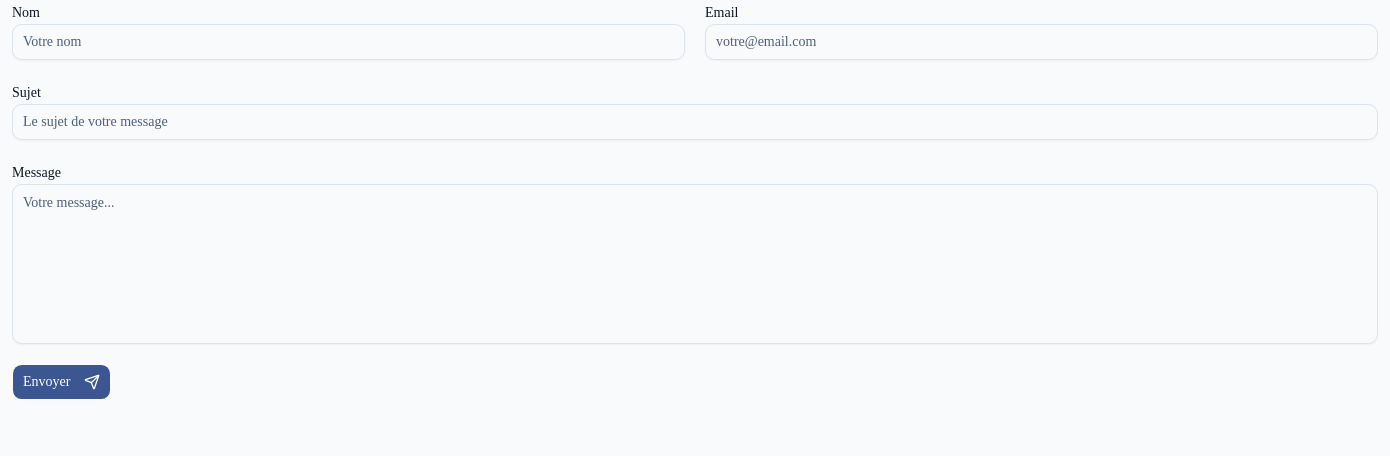
Test: ContactForm › affiche le message de succès après envoi réussi
Step 1. Type "Jean Dupont" into the field labelled "Nom" → (348, 42), box [12,24,685,60]
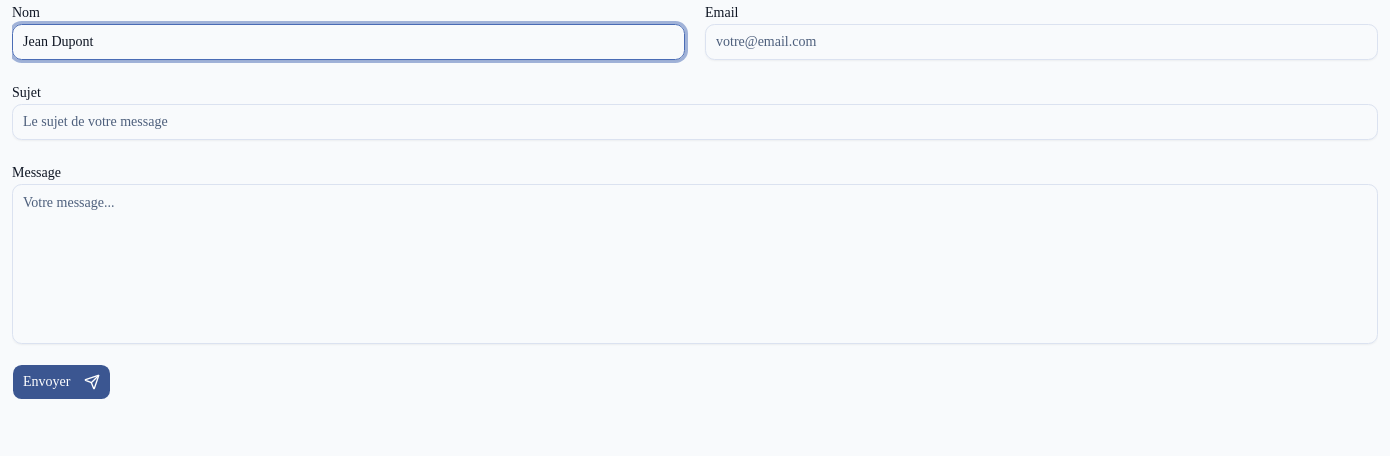
Step 2. Type "jean@example.com" into the field labelled "Email" → (1042, 42), box [705,24,1378,60]
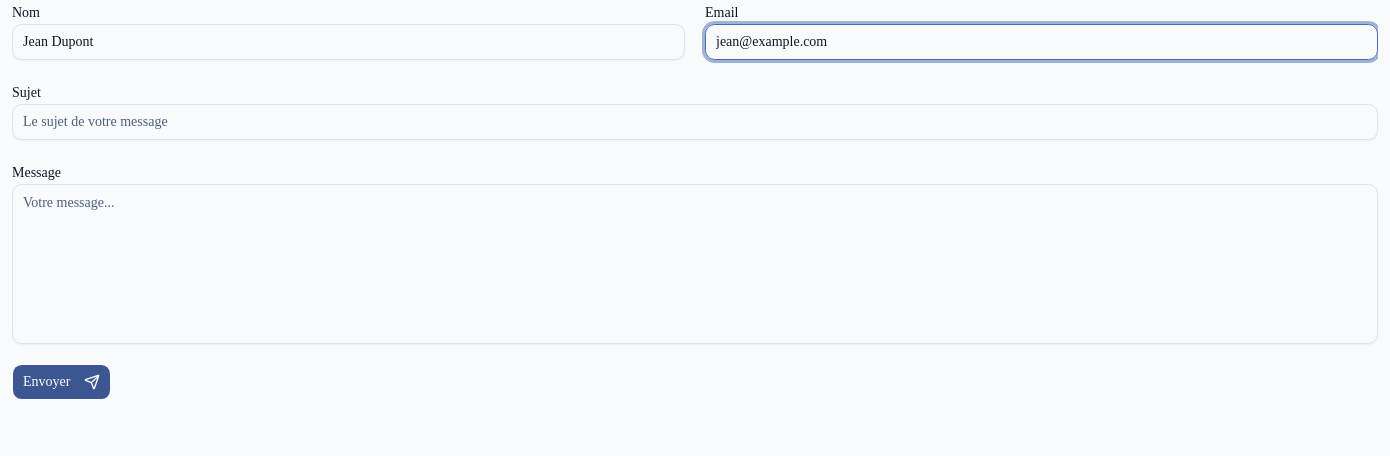
Step 3. Type "Projet" into the field labelled "Sujet" → (695, 122), box [12,104,1378,140]
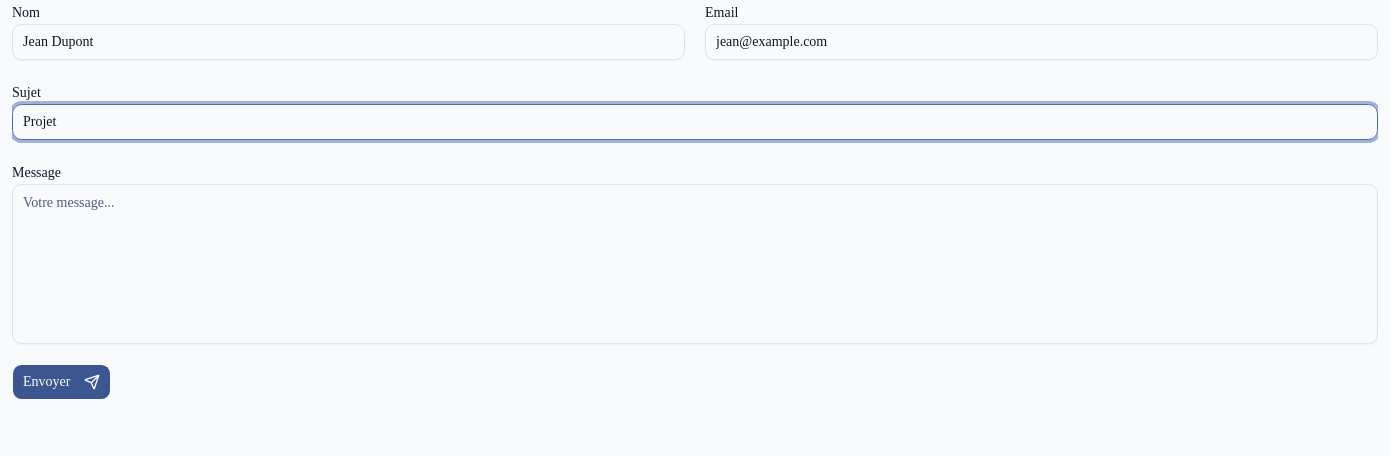
Step 4. Type "Bonjour, je vous contacte pour..." into the text box labelled "Message" → (695, 264), box [12,184,1378,344]
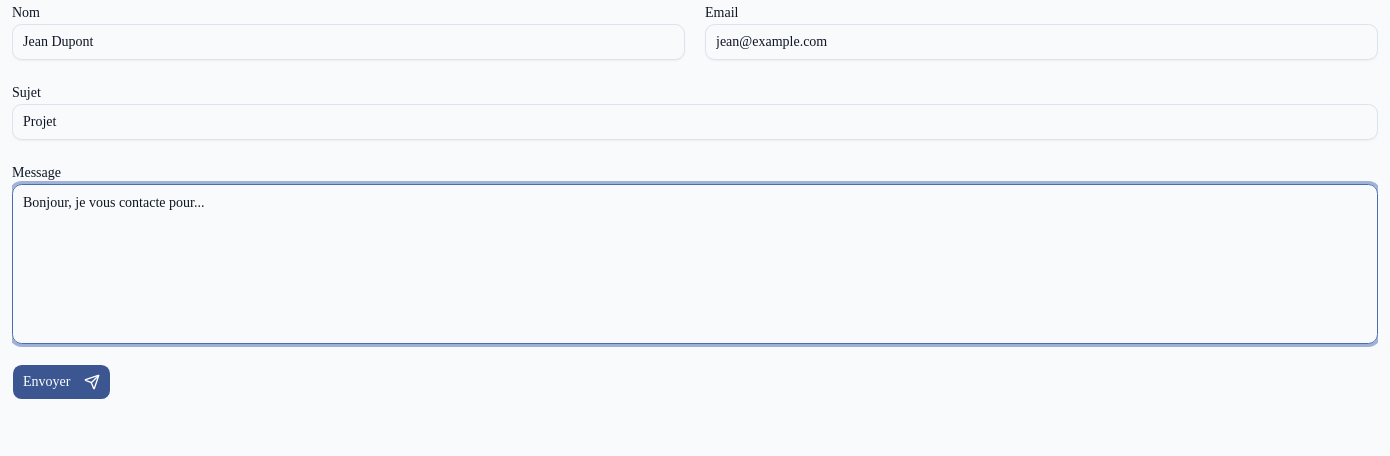
Step 5. Click the button "Envoyer" → click(62, 382), box [12,364,111,400]
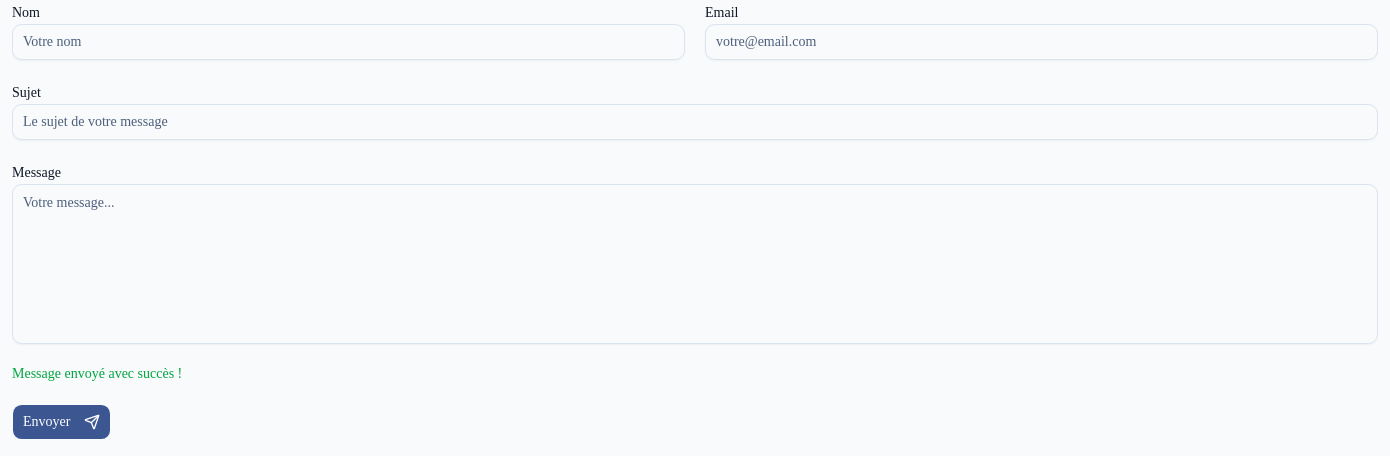
Expected: the message reads "Message envoyé avec succès !", [12,366,182,381]
